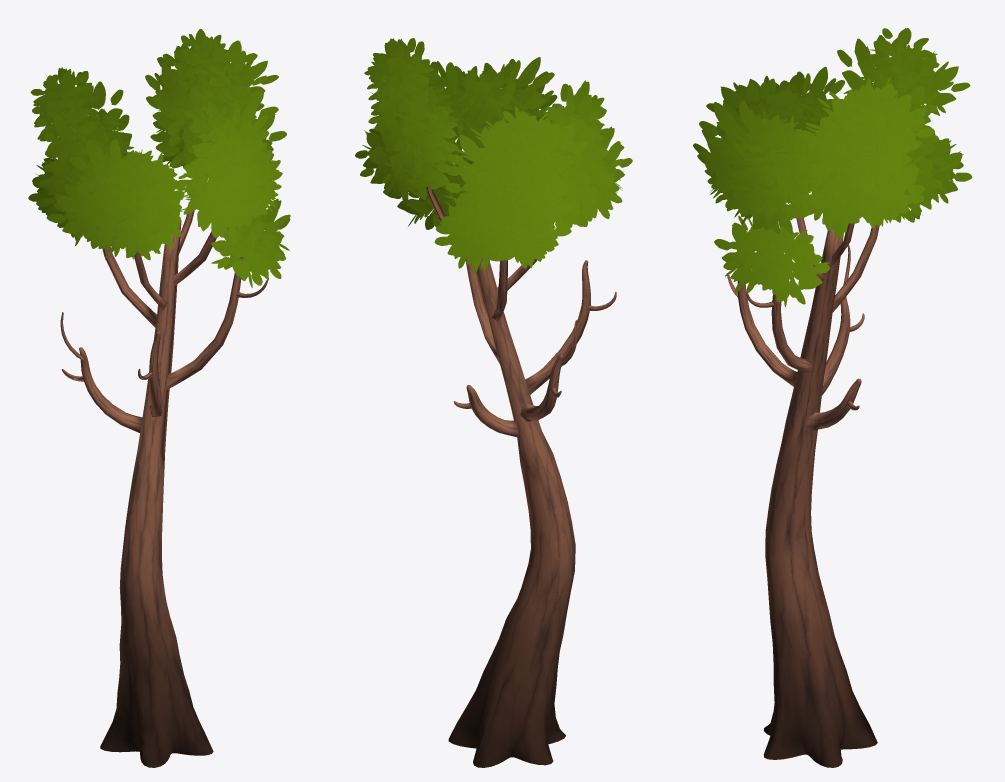
Rendered from sn_common_tree_4.glb.
3 renders of one model, left to right at view 1: azimuth 30°, elevation 25°; view 2: azimuth 150°, elevation 25°; view 3: azimuth 270°, elevation 25°, orthographic. The views are drawn at different scales.
Visible parts, largest first — view 1: CommonTree_4; view 2: CommonTree_4; view 3: CommonTree_4.
Part boxes in pixels (x1=…): CommonTree_4: x1=28, y1=29, x2=290, y2=767; CommonTree_4: x1=355, y1=38, x2=632, y2=767; CommonTree_4: x1=693, y1=28, x2=972, y2=767.
Size of the model in its own units: 3.83 by 9.44 by 3.76.
Materials: 2 (2 with a texture image).
